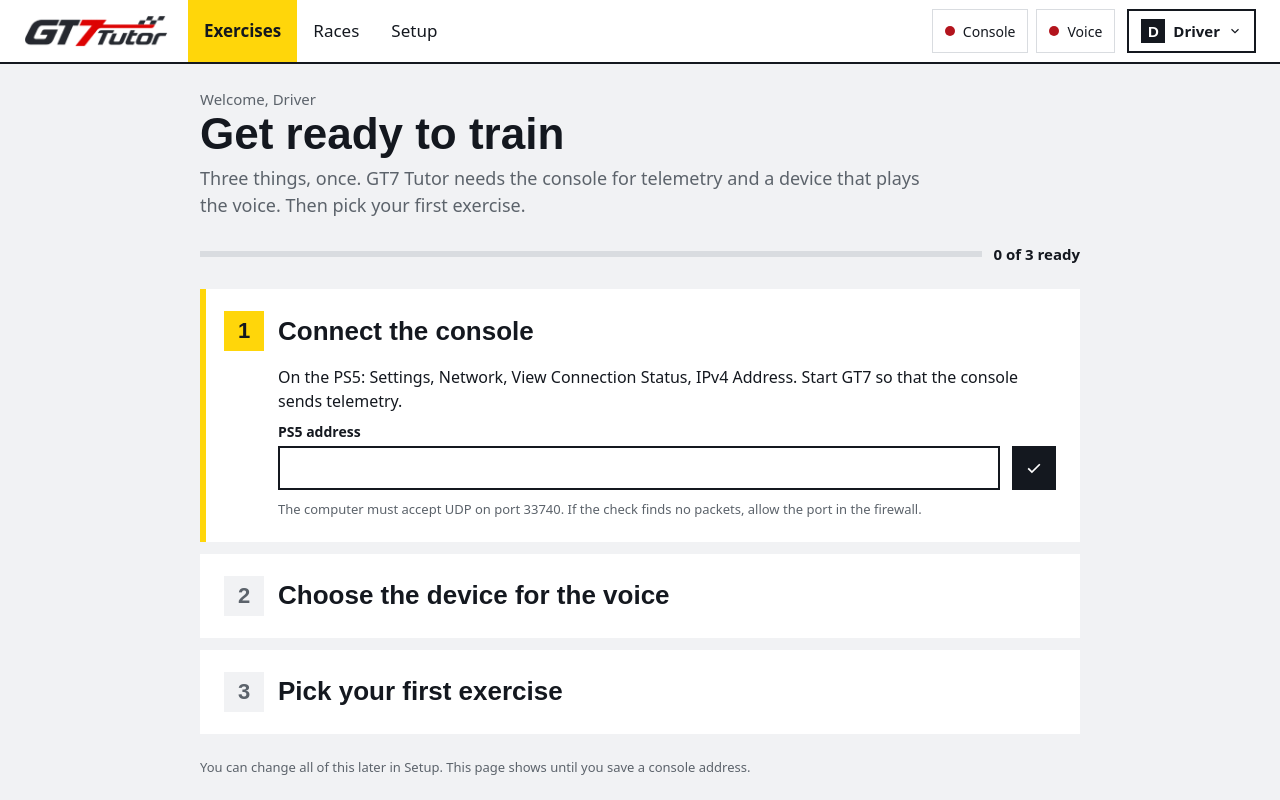
Test: get ready › saving_address_checks_reception_and_opens_voice
This screenshot has width=1280, height=800.
Type "192.168.1.40" into the field labelled "PS5 address" at (639, 468), box [278,446,1000,490]
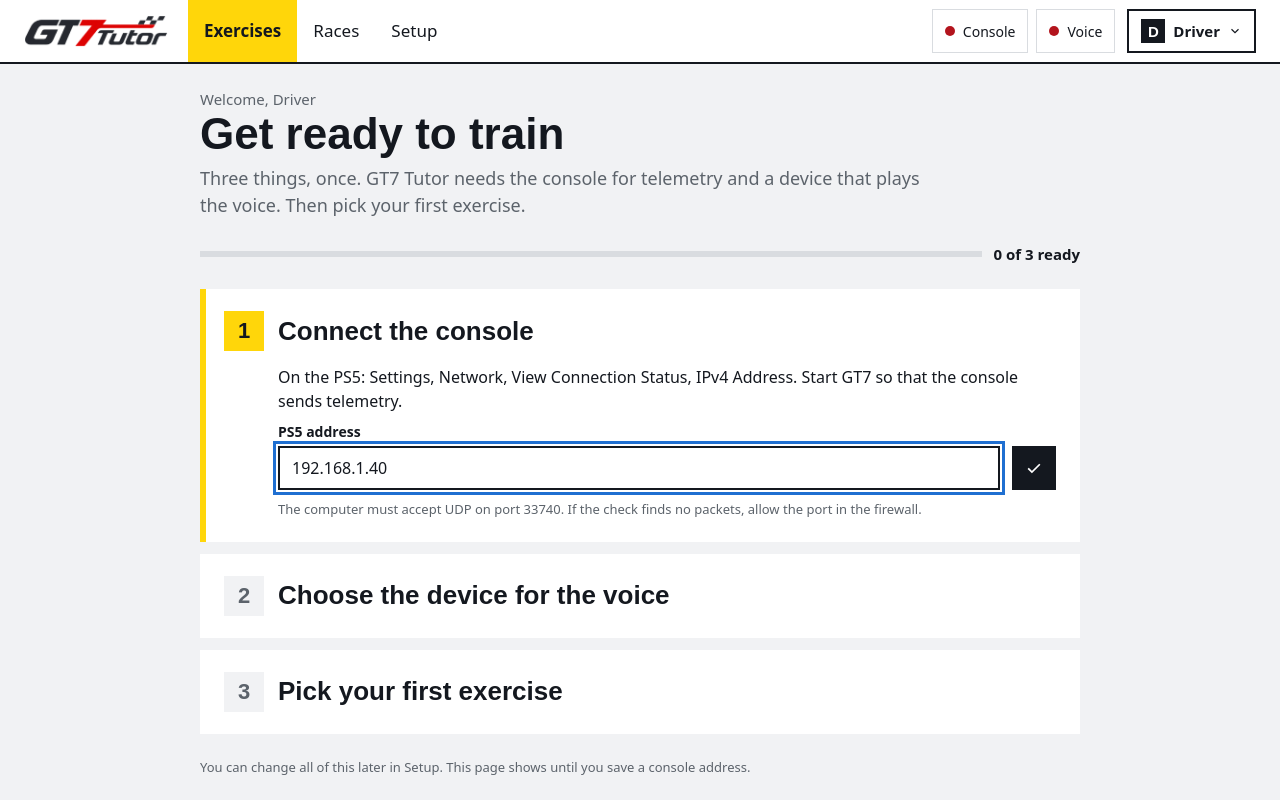
Click the 2nd button at (1034, 468), box [1012,446,1056,490]
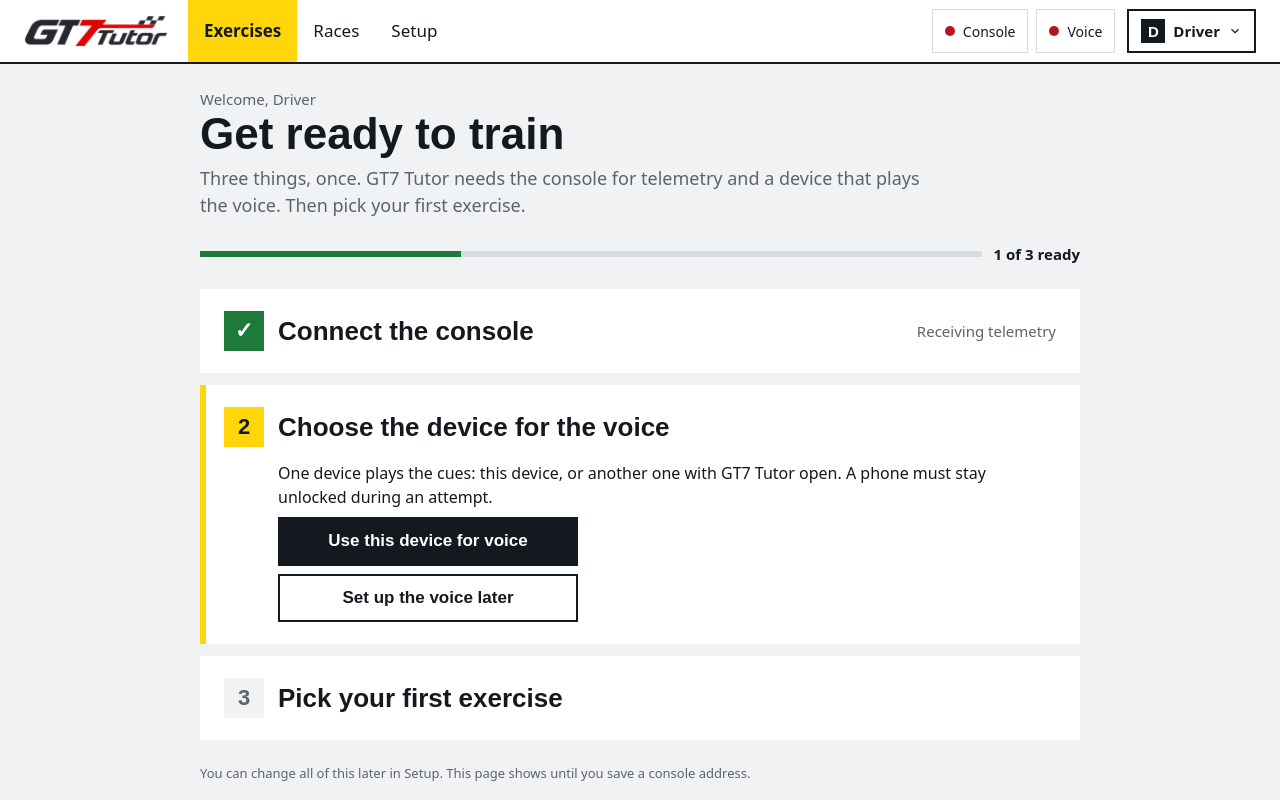
Expected: the text "Receiving telemetry" is shown, [917,320,1056,342]
Expected: the button "Use this device for voice" is shown, [278,517,578,566]
Expected: the text "1 of 3 ready" is shown, [994,243,1080,265]
